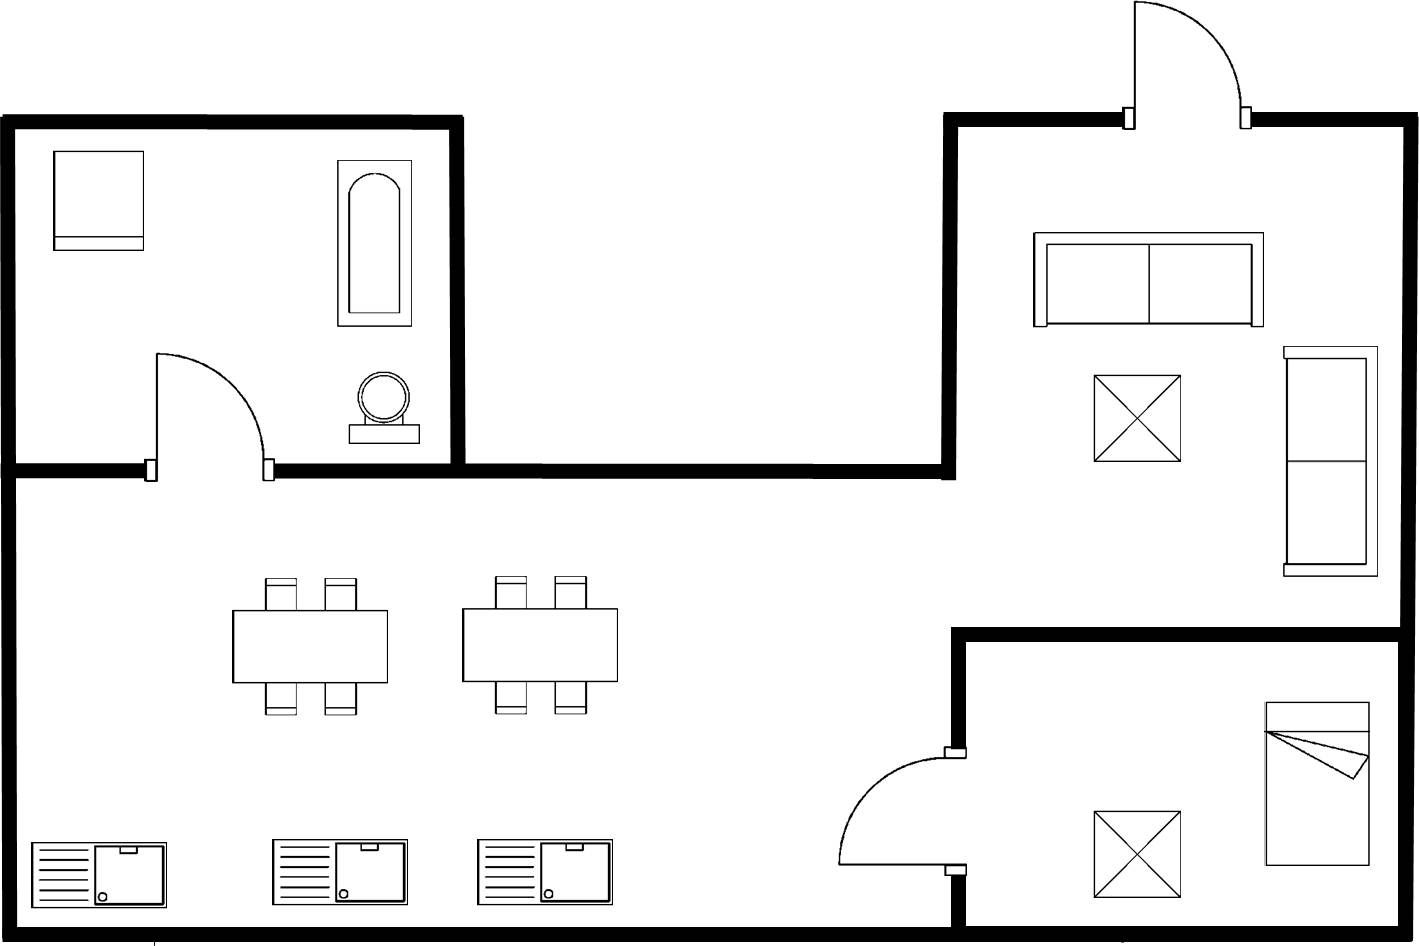bed: (1258, 697, 1377, 872)
coffee_table: (1087, 368, 1191, 470), (1087, 805, 1187, 906)
dining_table: (453, 566, 627, 719), (225, 571, 399, 723)
large_sink: (344, 367, 426, 451)
large_sofa: (1024, 226, 1274, 333), (1279, 340, 1385, 585)
sink: (23, 835, 176, 916), (265, 830, 412, 913), (473, 833, 619, 914)
small_sofa: (47, 146, 153, 258)
tub: (330, 152, 416, 335)
